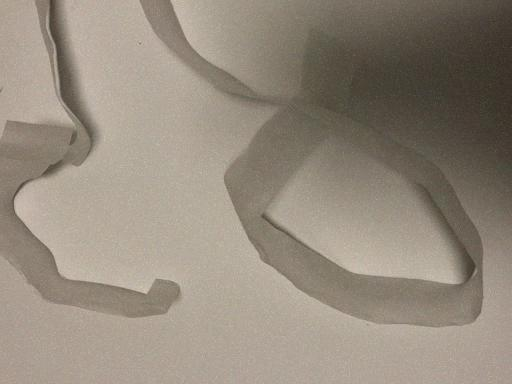trash: (0, 3, 506, 329), (171, 5, 510, 329)
